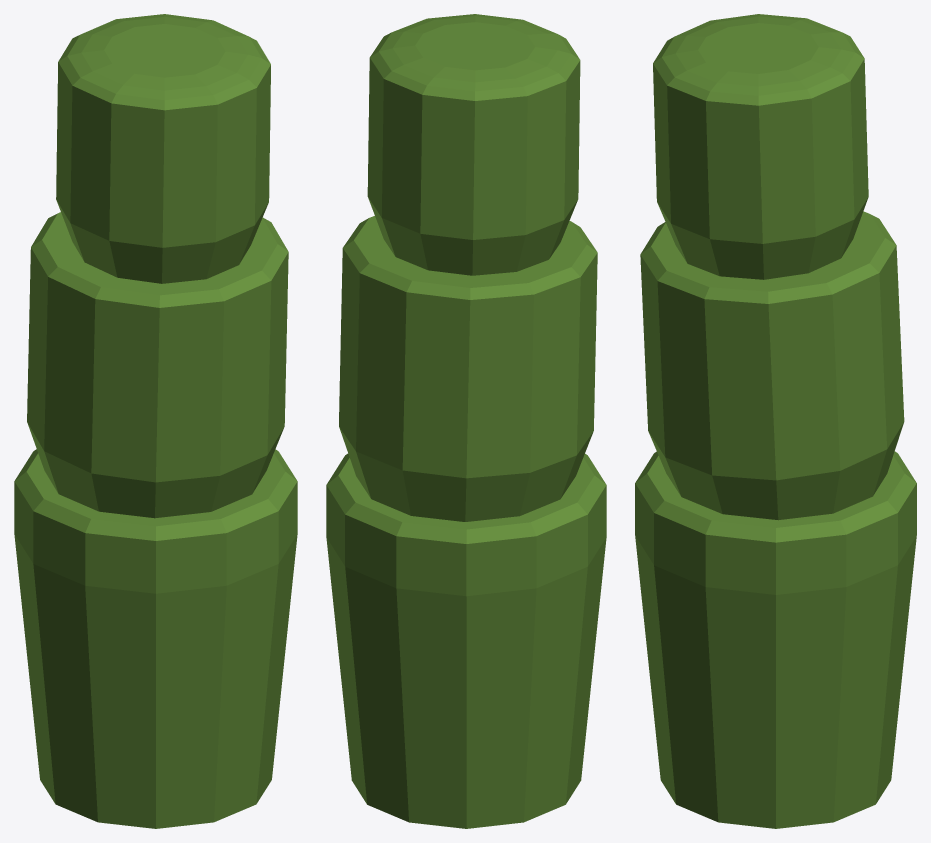
File: LowPolyCactus_2.fbx
3 renders of one model, left to right at view 1: azimuth 30°, elevation 25°; view 2: azimuth 150°, elevation 25°; view 3: azimuth 270°, elevation 25°, orthographic.
Parts seen in each view (by area): view 1: Cylinder, Cylinder.001, Cylinder.002; view 2: Cylinder, Cylinder.001, Cylinder.002; view 3: Cylinder, Cylinder.001, Cylinder.002.
Boxes of the visible parts, x1,y1,x2,y2 form: Cylinder: (14, 449, 297, 828); Cylinder.001: (27, 212, 288, 518); Cylinder.002: (56, 14, 270, 283); Cylinder: (326, 453, 606, 828); Cylinder.001: (339, 216, 597, 521); Cylinder.002: (367, 14, 580, 275); Cylinder: (635, 451, 916, 828); Cylinder.001: (640, 211, 904, 520); Cylinder.002: (653, 14, 868, 279).
Size of the model in its own units: 200 by 574 by 200.
